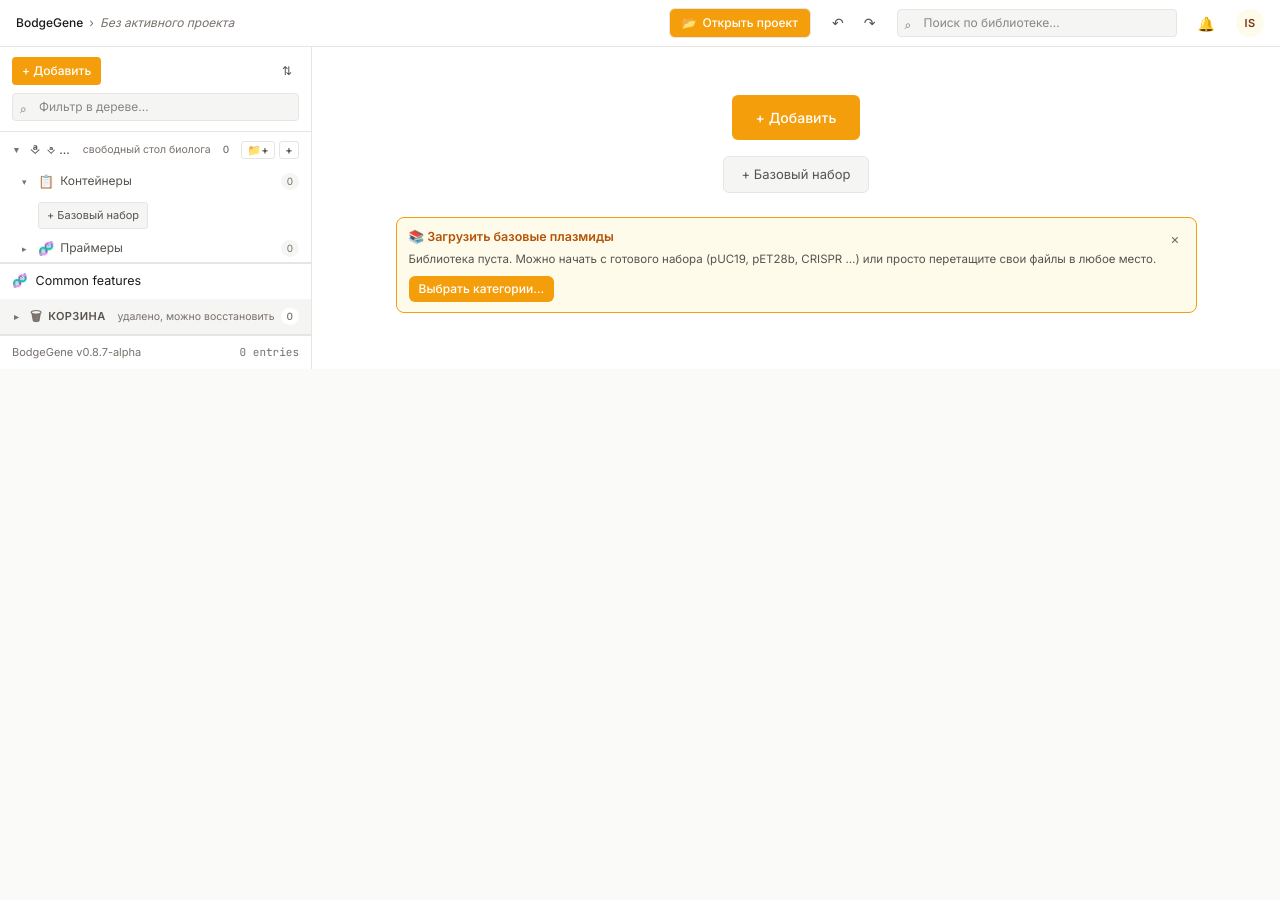
Test: M-X.7a v2 K6 — LibraryWorkspace +Add wiring › +Add in tree-head opens AddModal
Click the button with test id "tree-add-btn". click: {"x": 57, "y": 71}
box: [12,57,101,85]
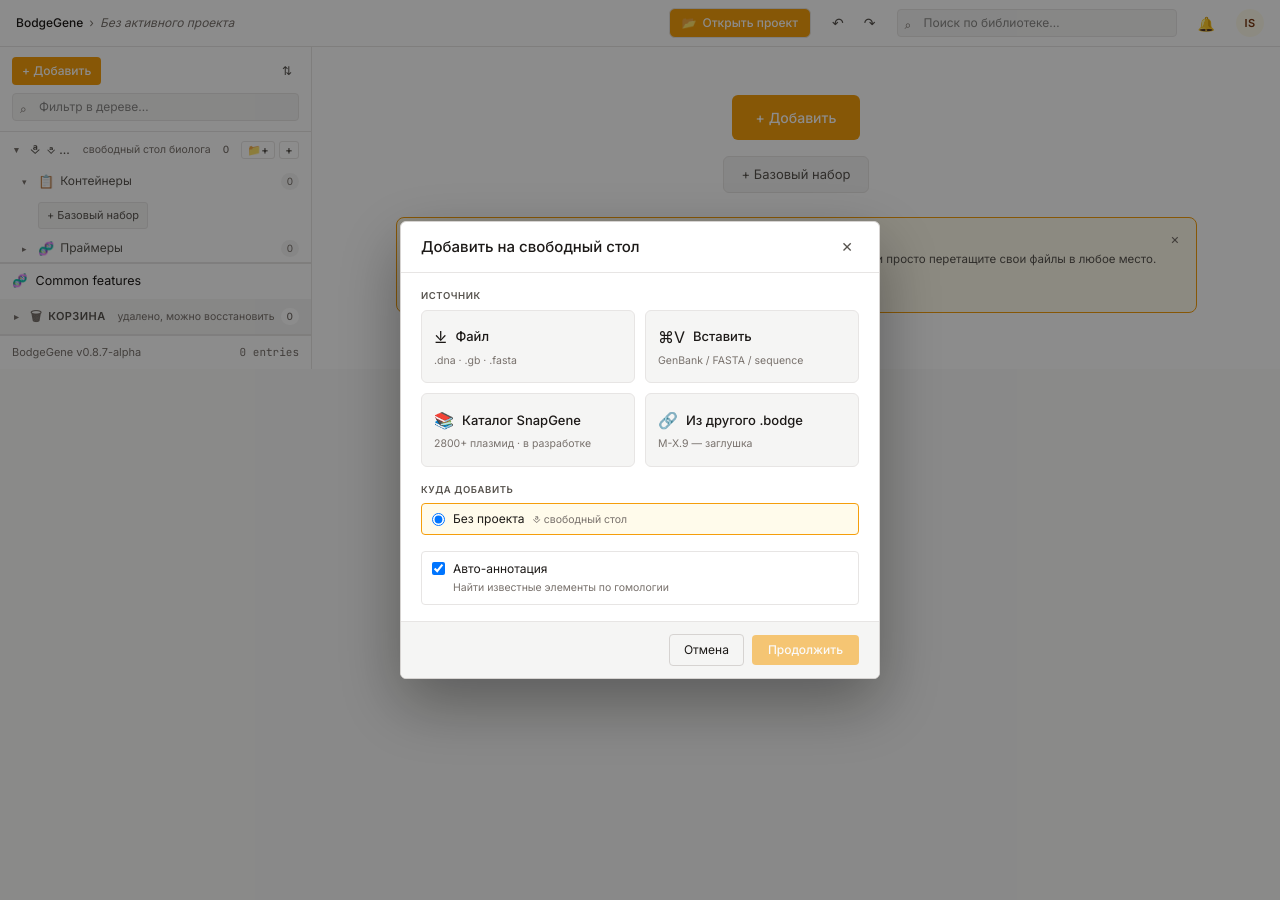
Check: the element with test id "add-modal" is shown, box [400,221,880,679]
